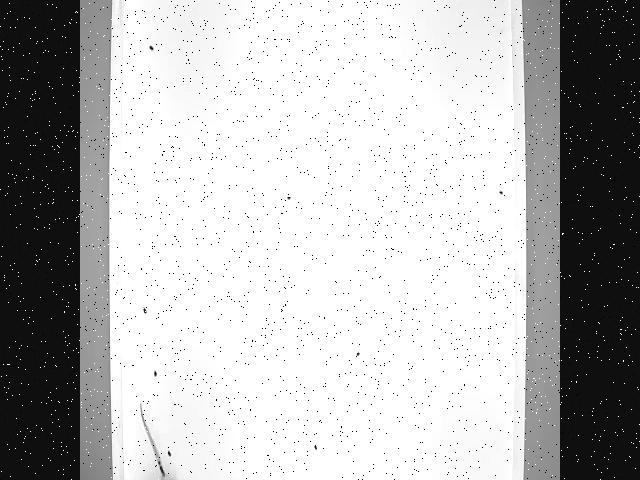Tikus: (136, 397, 184, 480)
